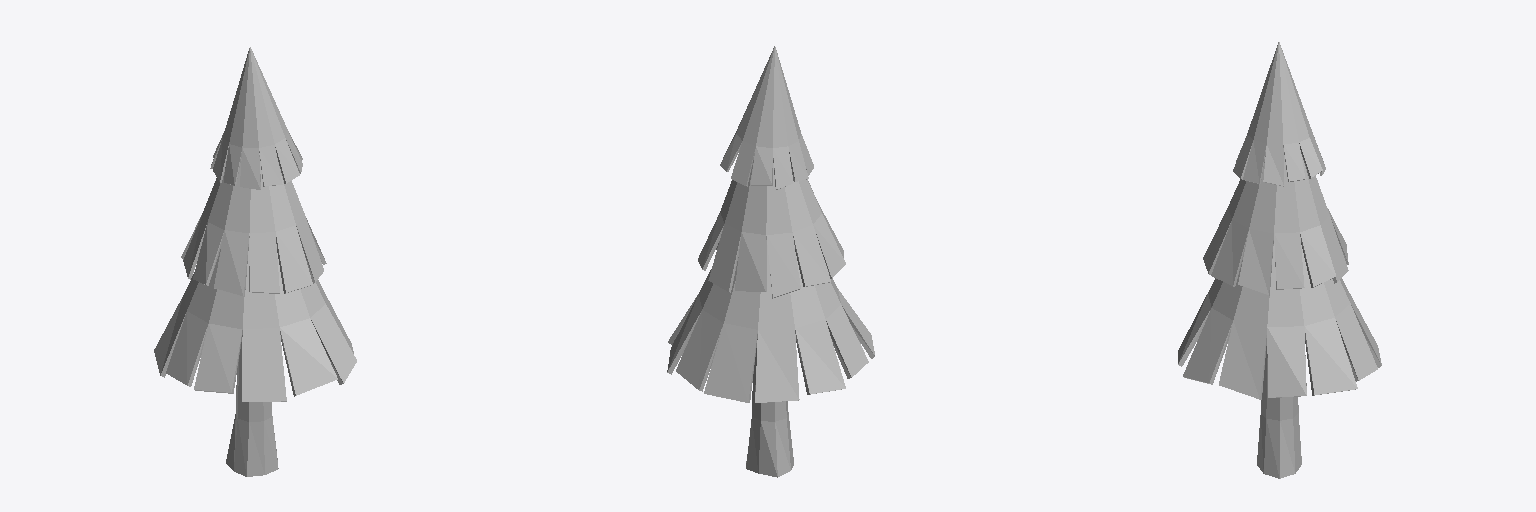
Rendered from tall_pine_tree1.obj.
3 renders of one model, left to right at view 1: azimuth 30°, elevation 25°; view 2: azimuth 150°, elevation 25°; view 3: azimuth 270°, elevation 25°, orthographic.
Parts seen in each view (by area): view 1: Tree3_4_Cylinder.029; view 2: Tree3_4_Cylinder.029; view 3: Tree3_4_Cylinder.029.
Boxes of the visible parts, x1,y1,x2,y2 form: Tree3_4_Cylinder.029: [154, 47, 356, 476]; Tree3_4_Cylinder.029: [667, 46, 874, 477]; Tree3_4_Cylinder.029: [1178, 42, 1381, 478].
Size of the model in its own units: 2.15 by 5 by 2.18.